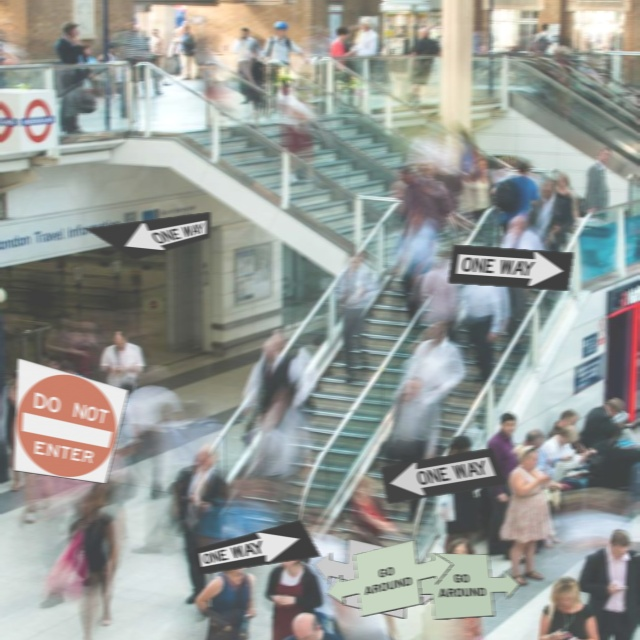DO_NOT_ENTER: (13, 356, 129, 483)
DO_NOT_GO_AROUND: (313, 537, 440, 618)
GO_AROUND: (326, 538, 453, 616), (393, 551, 520, 619)
ONE_WAY_ left: (380, 446, 507, 503), (84, 210, 211, 259)
ONE_WAY_ right: (194, 518, 321, 574), (447, 243, 574, 290)
